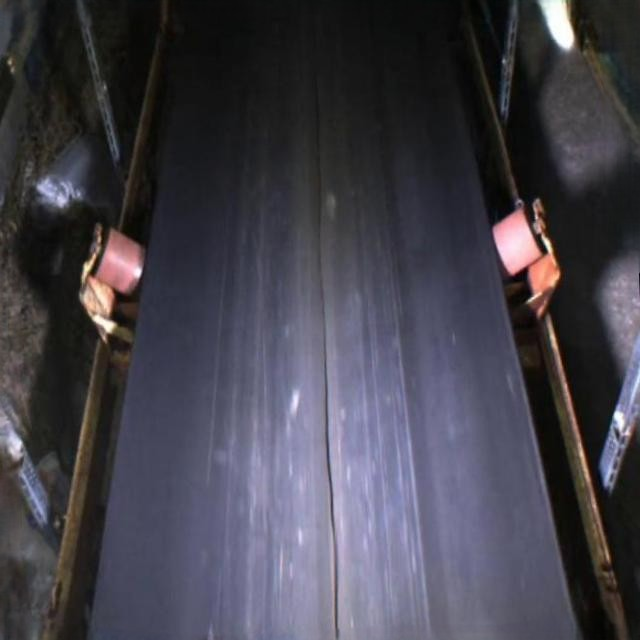Tear: (302, 0, 349, 640)
